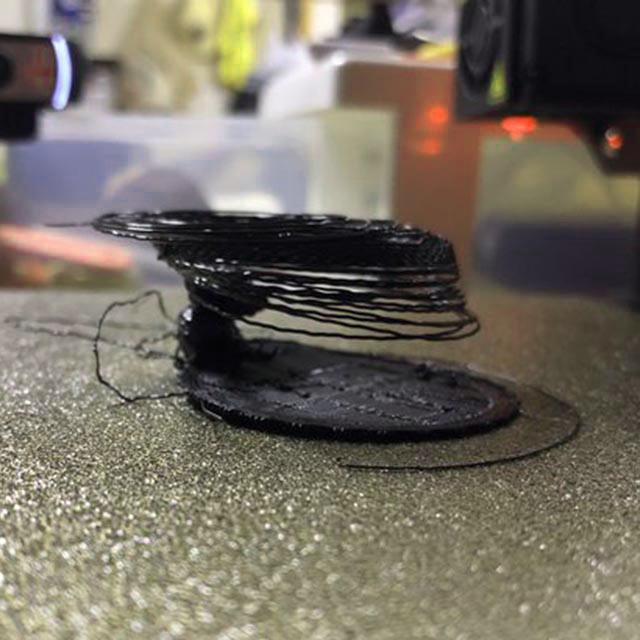Spaghetti: (189, 268, 482, 341), (92, 285, 190, 403), (40, 219, 94, 232)
